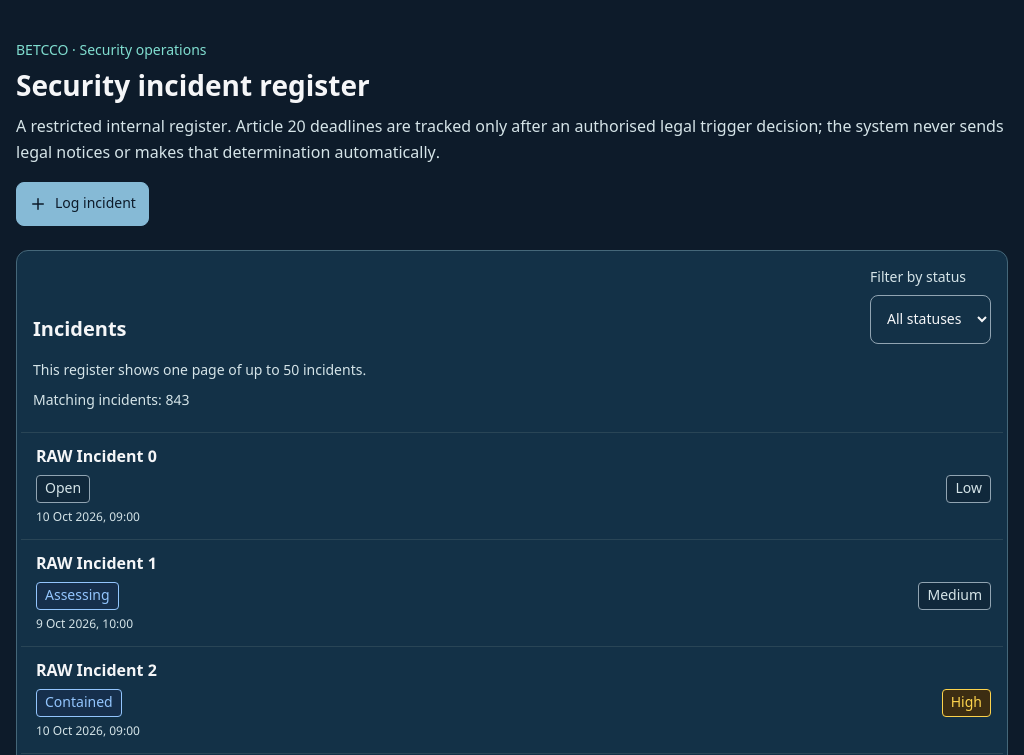
Test: Security Incident human governance en — MOCKED UI-CONTRACT EVIDENCE › selection 0 loads exact server facts/reason/assessment/closure and Open defaults to Assessing
Click the button "RAW Incident 0 Open Low 10 Oct 2026, 09:00" at (96, 457), box [21, 433, 1003, 539]
(page scrolled)
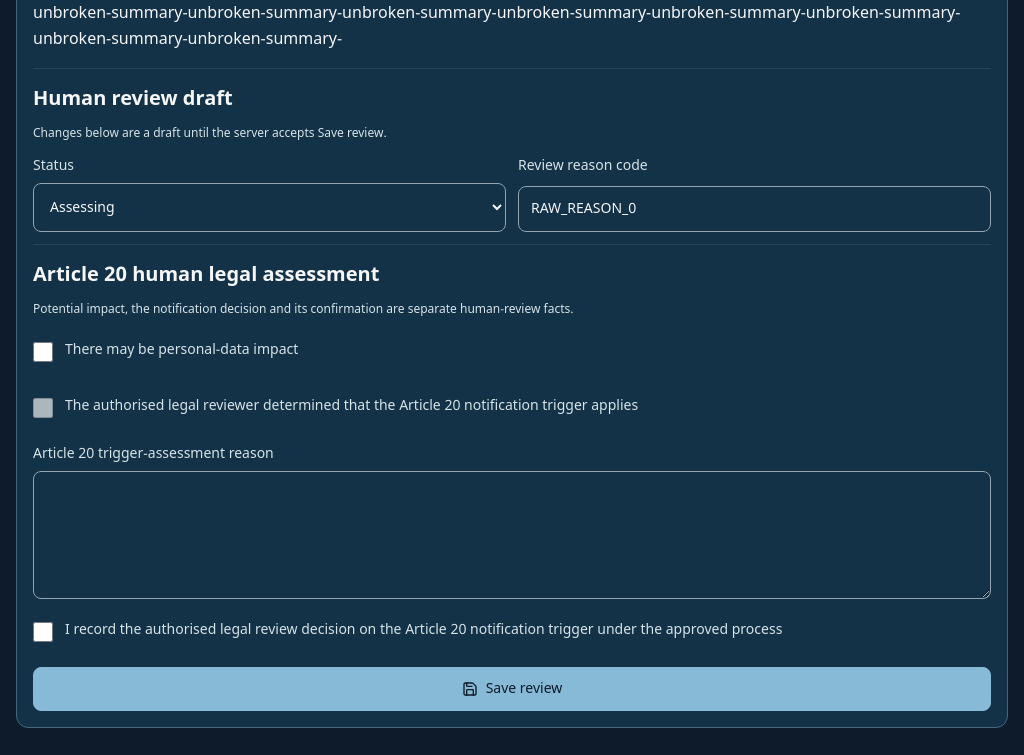
expect the dropdown labelled "Status" shows "Assessing": met, box [33, 183, 506, 232]
expect the checkbox labelled "There may be personal-data impact" is not checked: met, box [33, 342, 53, 362]
expect the checkbox named "The authorised legal reviewer determined that the Article 20 notification trigger applies" is not checked: met, box [33, 398, 53, 418]
